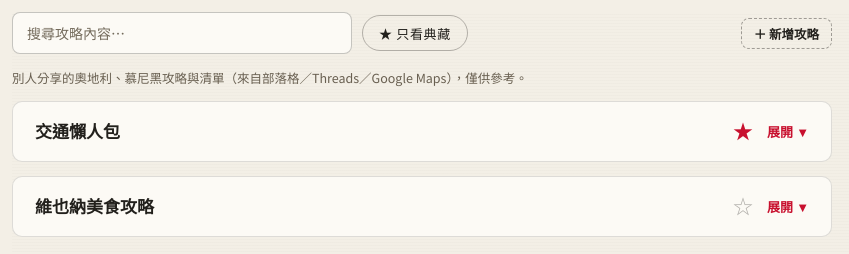
Guides 典藏 › 只看典藏：僅顯示已典藏攻略
Click the button "★ 只看典藏".
click(415, 33)  # box [362,15,468,51]
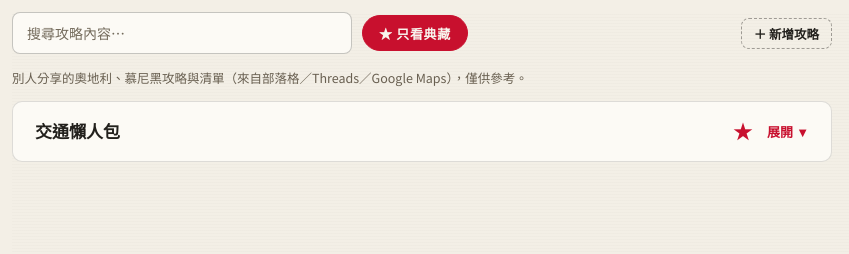
Expected: the text "交通懶人包" is shown, [35,119,120,145]
Result: the text "維也納美食攻略" is gone
